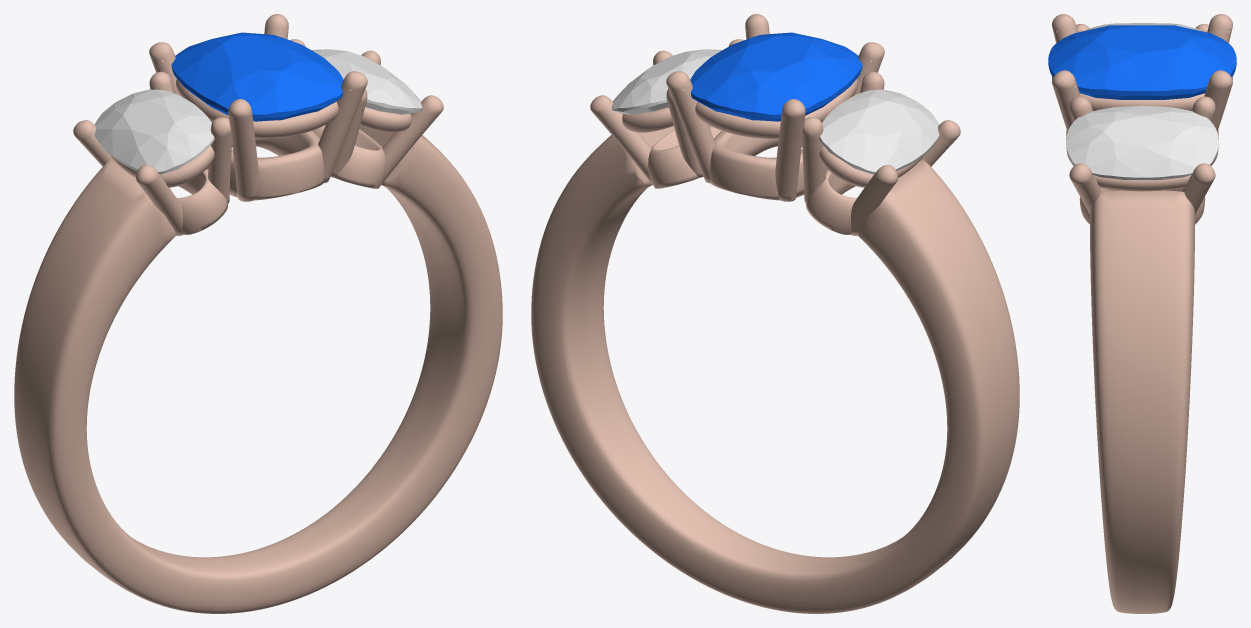
The model's file is bluesapphire-cushion-rosegold-4prong-straighttaperedband-3stone.glb.
3 renders of one model, left to right at view 1: azimuth 30°, elevation 25°; view 2: azimuth 150°, elevation 25°; view 3: azimuth 270°, elevation 25°, orthographic.
Visible parts, largest first — view 1: metal, stone.003, side.006, side.007; view 2: metal, stone.003, side.006, side.007; view 3: metal, stone.003, side.007, side.006.
Part boxes in pixels (x1,y1,x2,y2): metal: [14, 14, 502, 613]; stone.003: [171, 32, 343, 121]; side.006: [94, 89, 214, 174]; side.007: [311, 49, 422, 114]; metal: [531, 14, 1019, 613]; stone.003: [690, 32, 862, 121]; side.006: [819, 89, 939, 174]; side.007: [611, 49, 722, 114]; metal: [1052, 14, 1232, 613]; stone.003: [1048, 25, 1236, 99]; side.007: [1066, 105, 1218, 180]; side.006: [1084, 23, 1200, 30].
Size of the model in its own units: 20.11 by 23.04 by 7.15.
